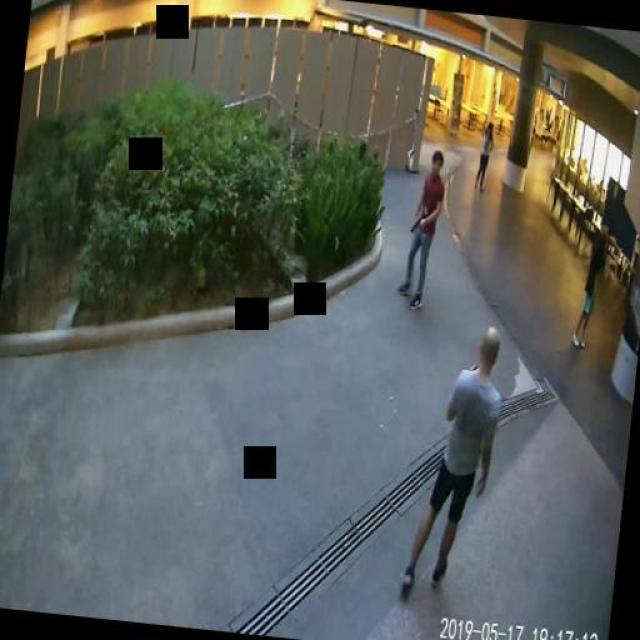gun: (408, 214, 422, 231)
